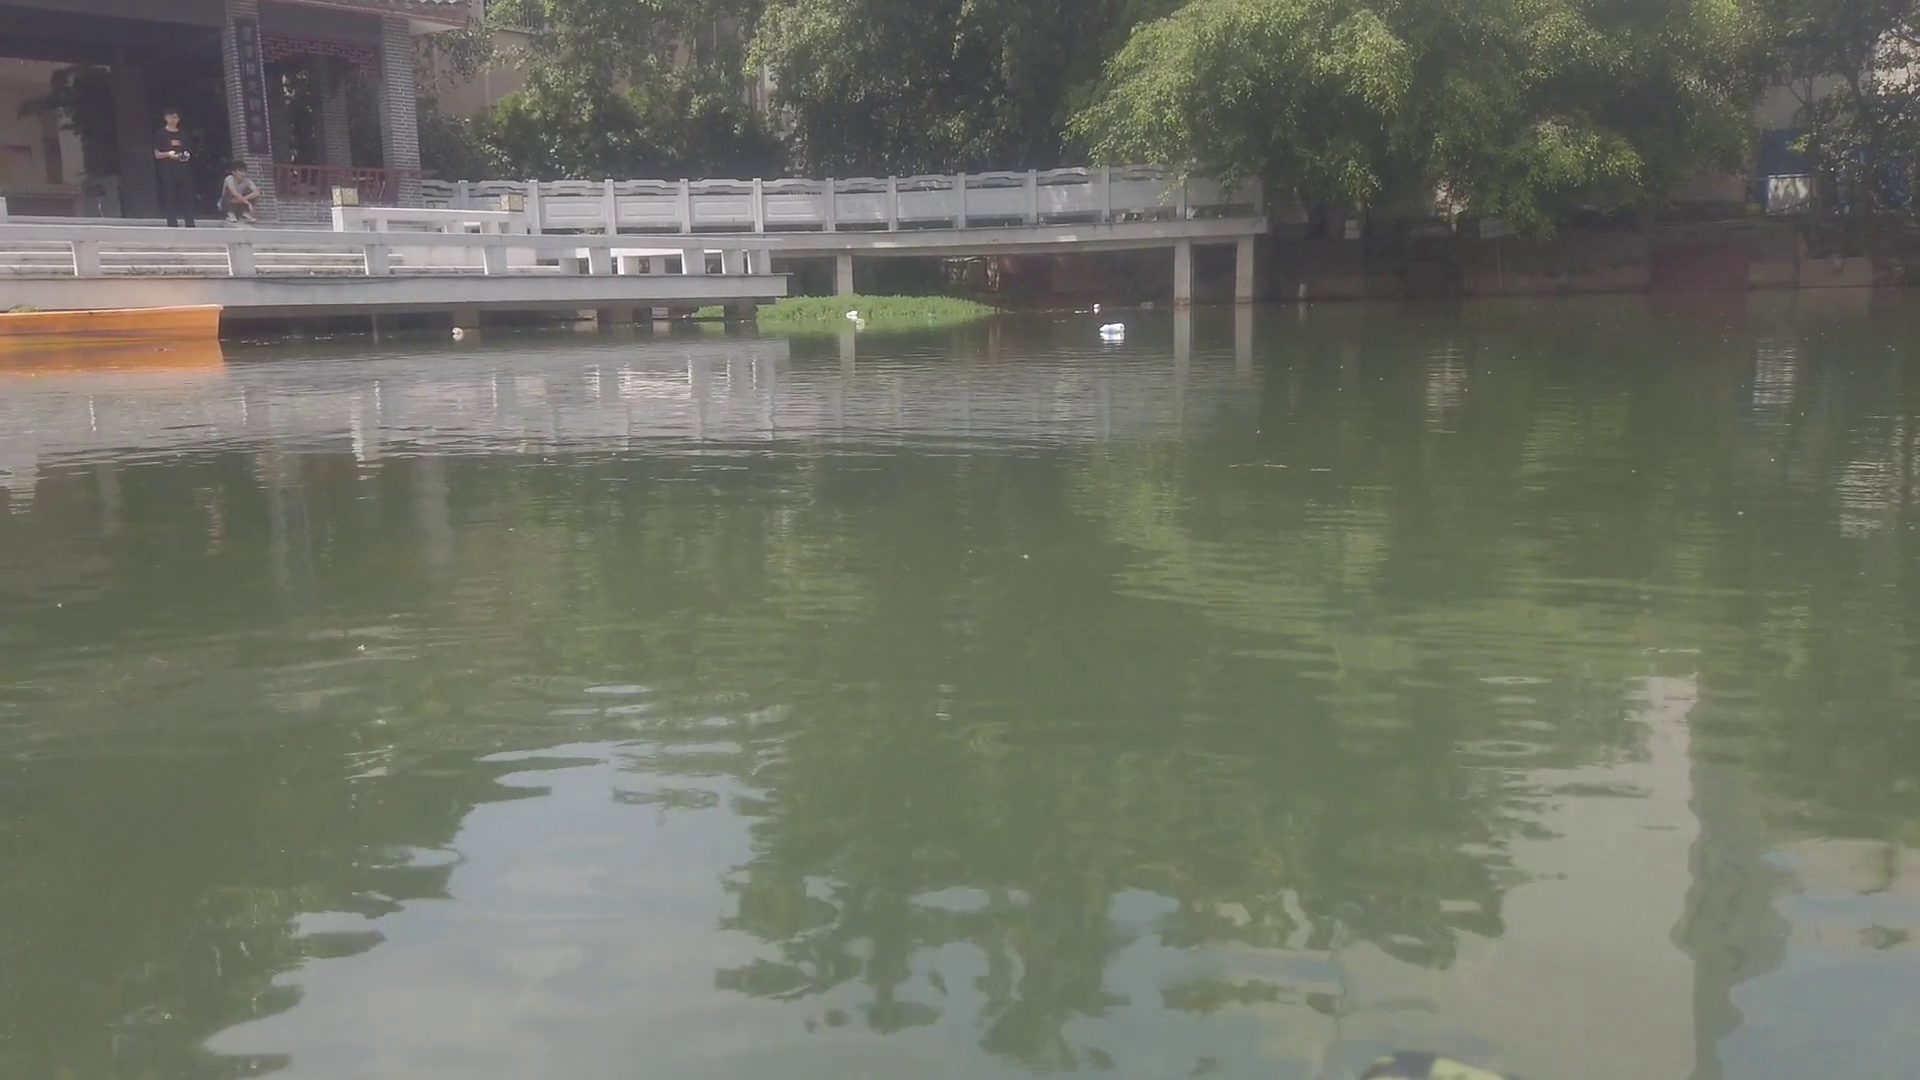bottle: (1096, 324, 1124, 332), (450, 324, 465, 338)
carton: (1095, 302, 1104, 313)
plastic: (847, 309, 858, 320)
